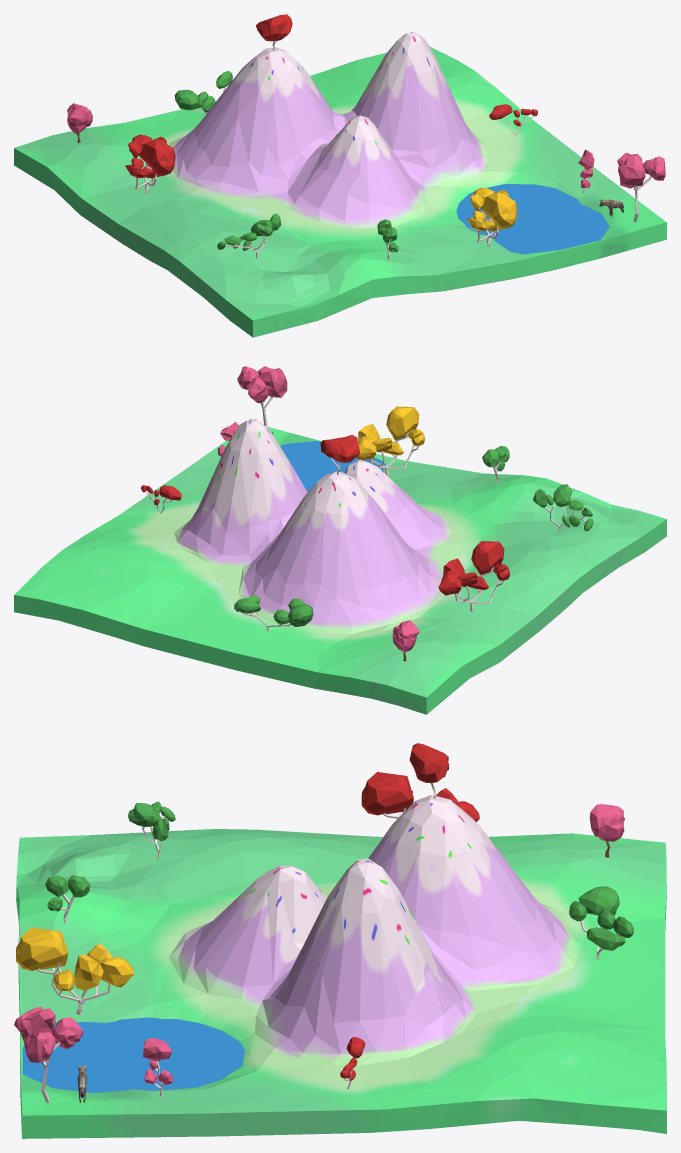
The model's file is scenee.gltf.
The picture shows the model from 3 angles, top to bottom: view 1: azimuth 30°, elevation 25°; view 2: azimuth 150°, elevation 25°; view 3: azimuth 270°, elevation 25°; orthographic projection. The views are drawn at different scales.
Visible parts, largest first — view 1: Grid, water, Icosphere.071, Icosphere.080, Sphere.020, Icosphere.082, Icosphere.081, Sphere.021, Sphere.019; view 2: Grid, Icosphere.071, Icosphere.080, water, Sphere.020, Icosphere.082, Icosphere.081, Sphere.021, Sphere.019; view 3: Grid, water, Icosphere.080, Icosphere.082, Sphere.020, Icosphere.071, Sphere.021, Icosphere.081, Sphere.019, Icosphere.021, Icosphere.078.
Part boxes in pixels (x1,y1,x2,y2): Grid: [14, 31, 666, 337]; water: [456, 183, 609, 254]; Icosphere.071: [125, 134, 175, 178]; Icosphere.080: [467, 187, 517, 231]; Sphere.020: [617, 152, 665, 188]; Icosphere.082: [174, 71, 232, 112]; Icosphere.081: [217, 213, 281, 250]; Sphere.021: [256, 14, 292, 41]; Sphere.019: [67, 103, 92, 134]; Grid: [14, 418, 666, 714]; Icosphere.071: [438, 541, 509, 595]; Icosphere.080: [356, 406, 424, 460]; water: [280, 441, 385, 491]; Sphere.020: [237, 366, 287, 402]; Icosphere.082: [234, 595, 313, 626]; Icosphere.081: [533, 484, 593, 531]; Sphere.021: [320, 435, 360, 462]; Sphere.019: [392, 620, 419, 651]; Grid: [16, 795, 666, 1138]; water: [22, 1017, 244, 1092]; Icosphere.080: [16, 927, 133, 991]; Icosphere.082: [569, 886, 633, 950]; Sphere.020: [14, 1006, 83, 1062]; Icosphere.071: [361, 772, 479, 821]; Sphere.021: [409, 743, 449, 783]; Icosphere.081: [128, 801, 175, 840]; Sphere.019: [589, 804, 625, 841]; Icosphere.021: [45, 875, 90, 911]; Icosphere.078: [143, 1038, 173, 1084].
Bounding box in the file's own units: 51.13 × 22.29 × 50.78.
Materials: 4 (3 with a texture image).
